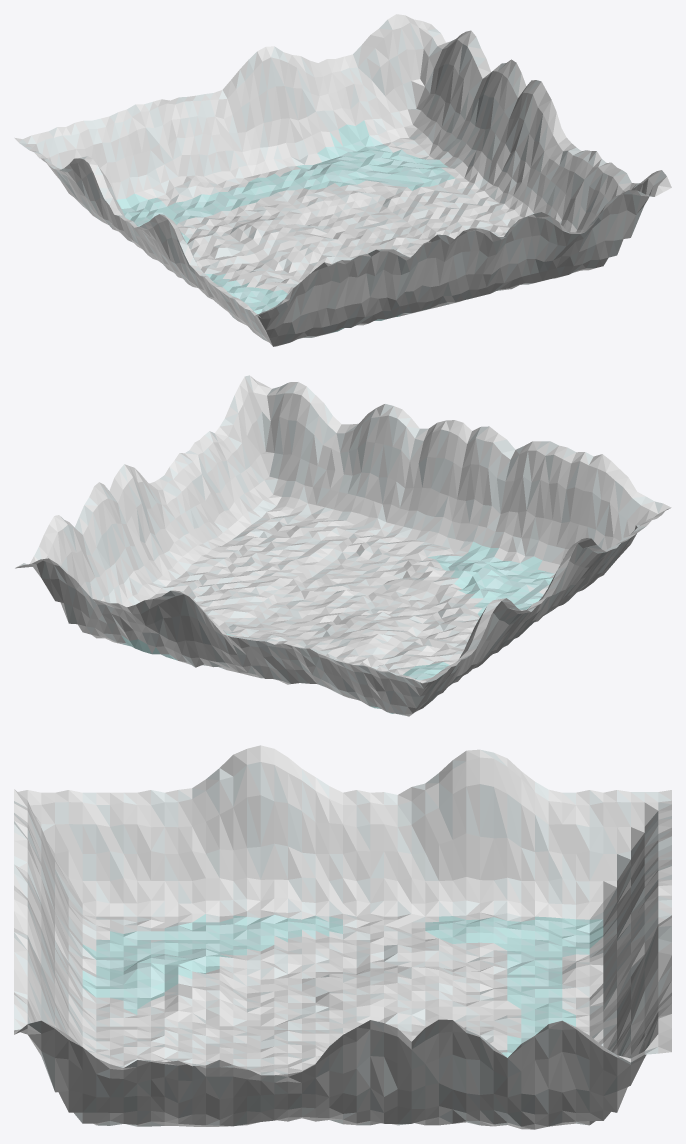
Rendered from environementPlane.fbx.
3 views of the same model, one above another, from view 1: azimuth 30°, elevation 25°; view 2: azimuth 150°, elevation 25°; view 3: azimuth 270°, elevation 25° (orthographic). The views are drawn at different scales.
Parts seen in each view (by area): view 1: Plane; view 2: Plane; view 3: Plane.
Part boxes in pixels (x1,y1,x2,y2): Plane: [14, 14, 671, 346]; Plane: [15, 375, 671, 716]; Plane: [14, 745, 671, 1129].
Bounding box in the file's own units: 1694 × 420 × 1693.
